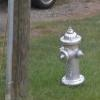Hydrant: (54, 20, 91, 96)
